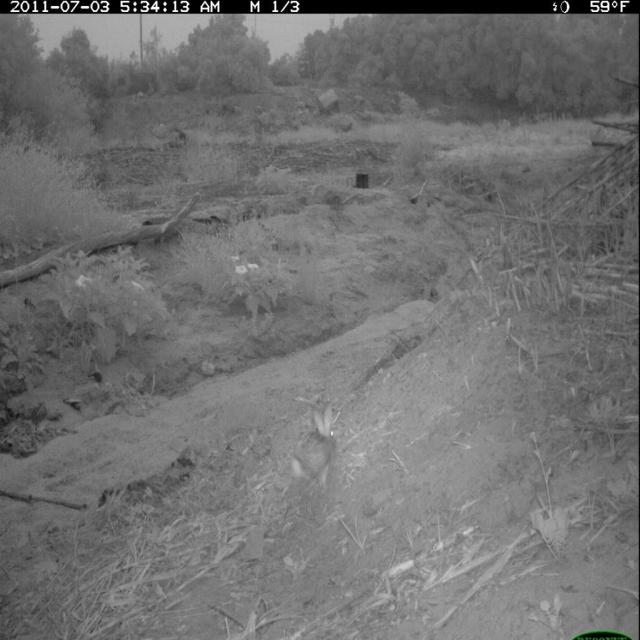rabbit: (286, 400, 340, 492)
